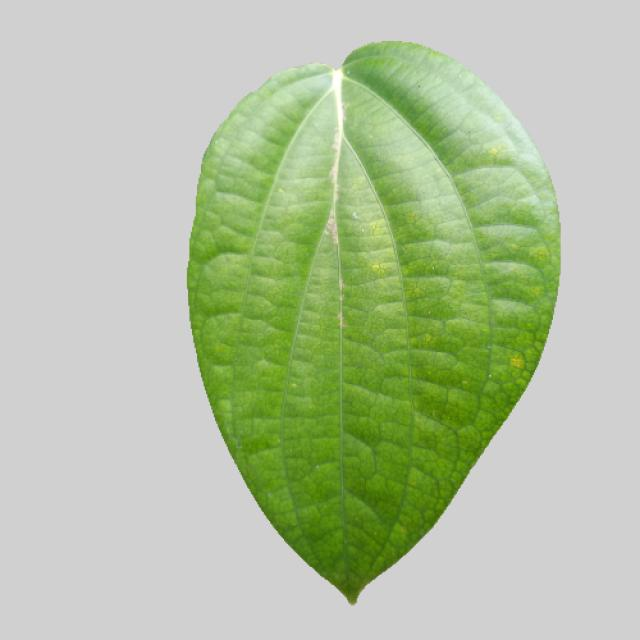healthy: (185, 41, 562, 613)
